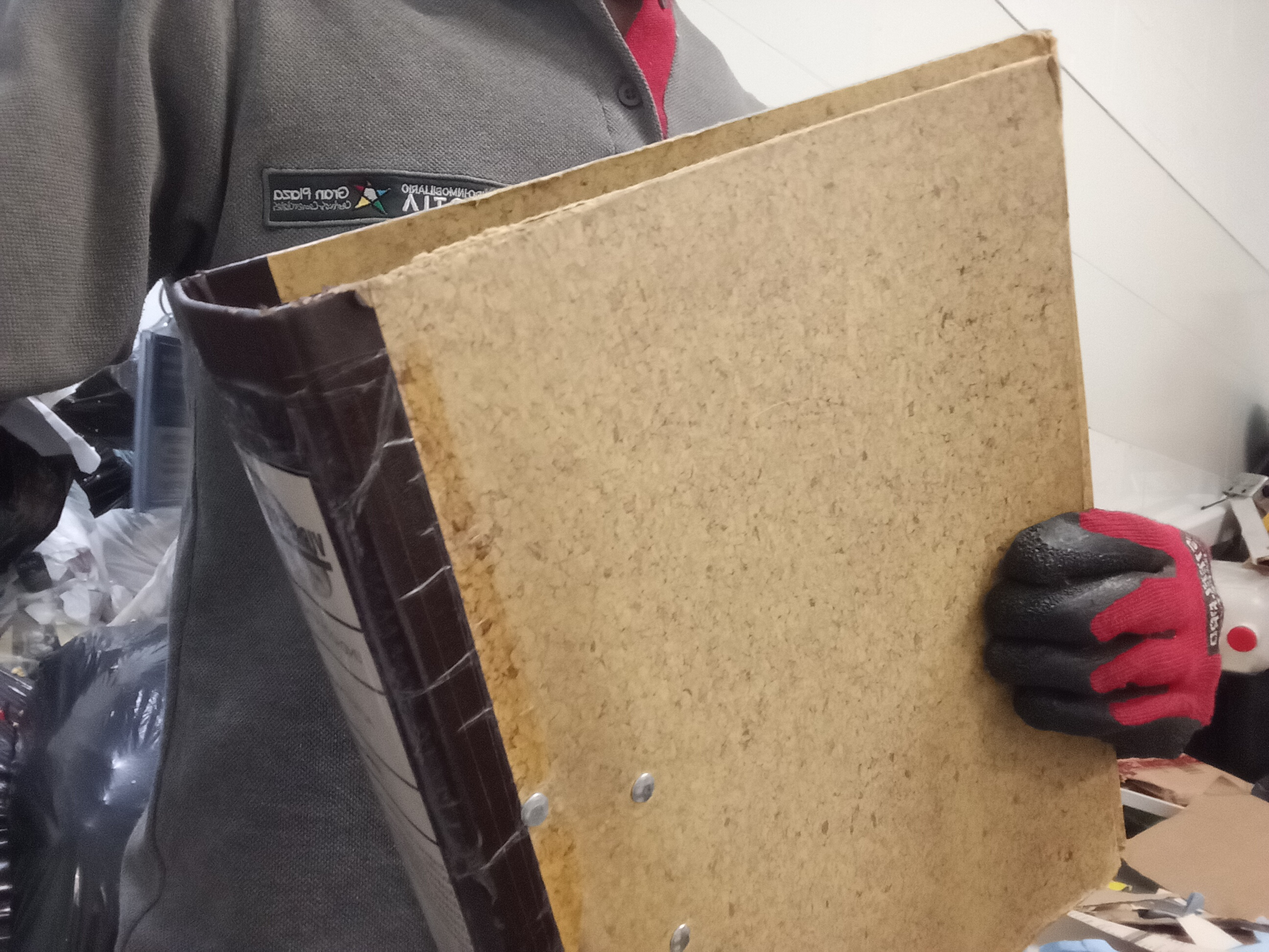Carton: (178, 27, 1127, 952)
